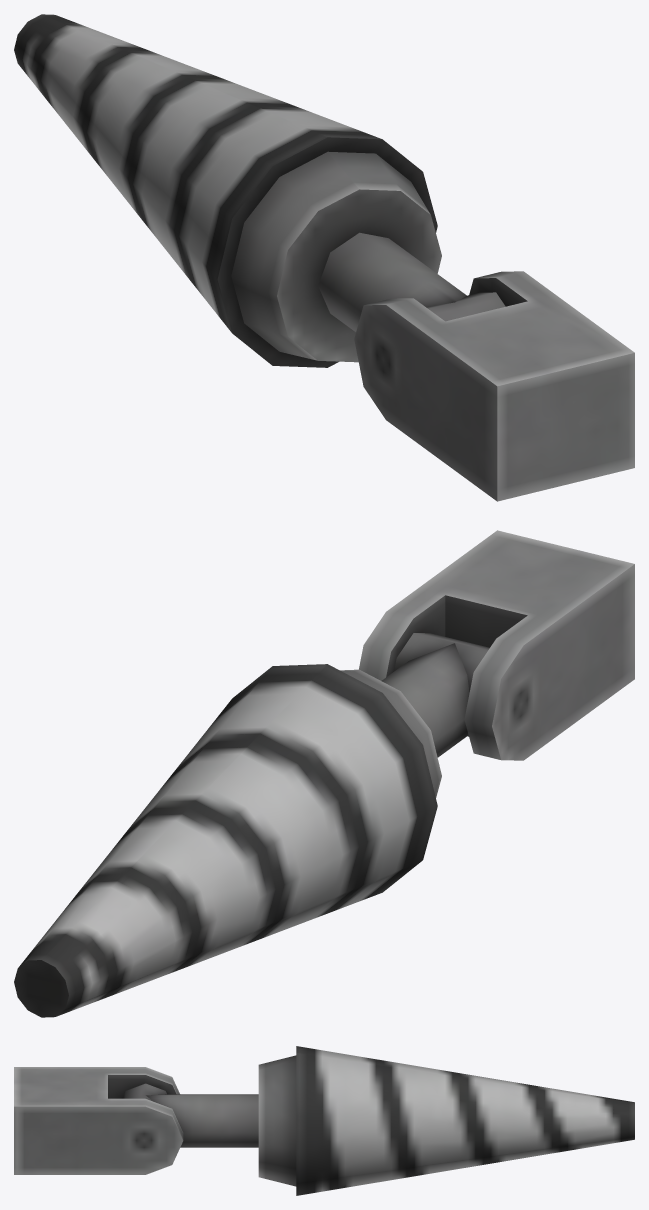
File: static_low_gain.obj
3 renders of one model, top to bottom at view 1: azimuth 30°, elevation 25°; view 2: azimuth 150°, elevation 25°; view 3: azimuth 270°, elevation 25°, orthographic. The views are drawn at different scales.
Visible parts, largest first — view 1: 1; view 2: 1; view 3: 1.
Part boxes in pixels (bbox=[...]): 1: bbox=[14, 14, 634, 501]; 1: bbox=[14, 530, 634, 1017]; 1: bbox=[14, 1046, 634, 1195].
Bounding box in the file's own units: 0.1 × 0.1 × 0.4125.
Materials: 1 (1 with a texture image).
